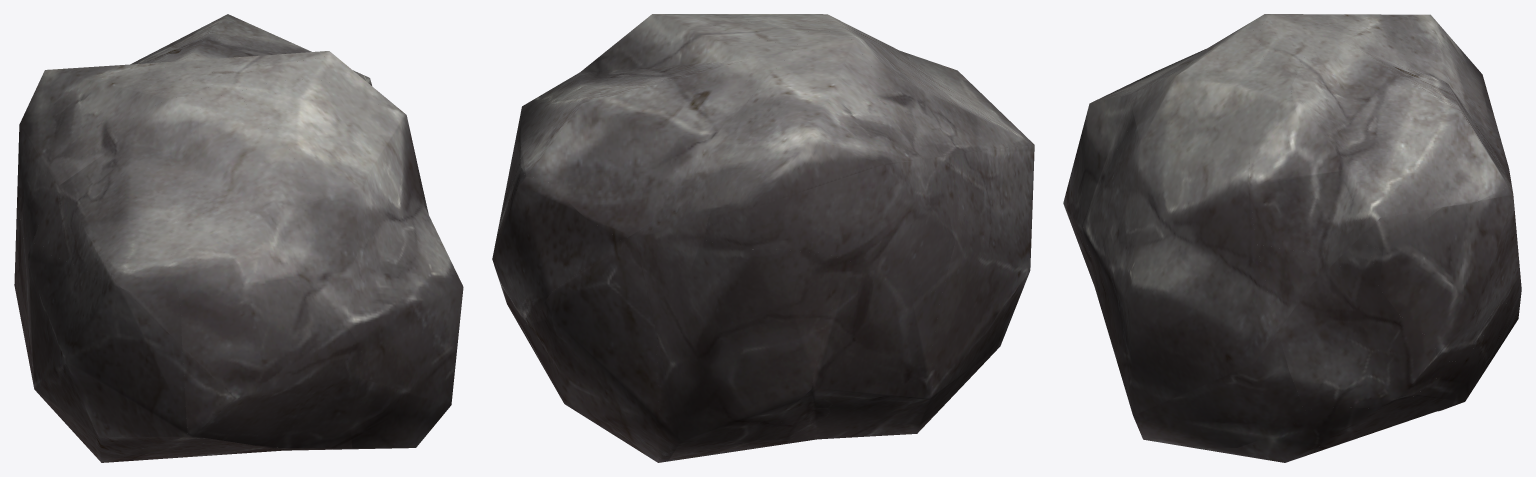
Rendered from ston.FBX.
The picture shows the model from 3 angles, left to right: view 1: azimuth 30°, elevation 25°; view 2: azimuth 150°, elevation 25°; view 3: azimuth 270°, elevation 25°; orthographic projection. The views are drawn at different scales.
Visible parts, largest first — view 1: qudong_hp_attack_04_shitou_bf_frag_30; view 2: qudong_hp_attack_04_shitou_bf_frag_30; view 3: qudong_hp_attack_04_shitou_bf_frag_30.
Part boxes in pixels (left/top/right/bottom): qudong_hp_attack_04_shitou_bf_frag_30: left=14, top=14, right=463, bottom=462; qudong_hp_attack_04_shitou_bf_frag_30: left=492, top=14, right=1034, bottom=462; qudong_hp_attack_04_shitou_bf_frag_30: left=1063, top=14, right=1521, bottom=462.
Size of the model in its own units: 205 by 176 by 209.
